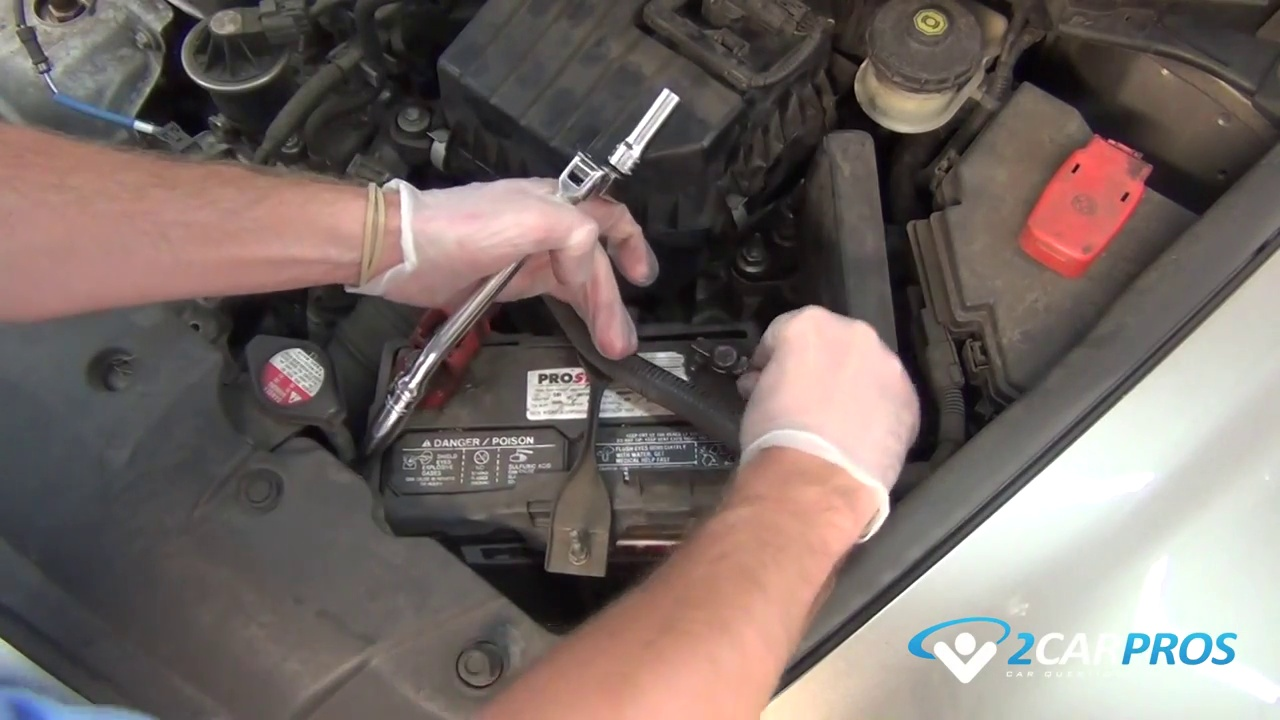battery: (382, 318, 782, 542)
neg_touched: (670, 298, 847, 416)
pos_touched: (374, 265, 509, 428)
